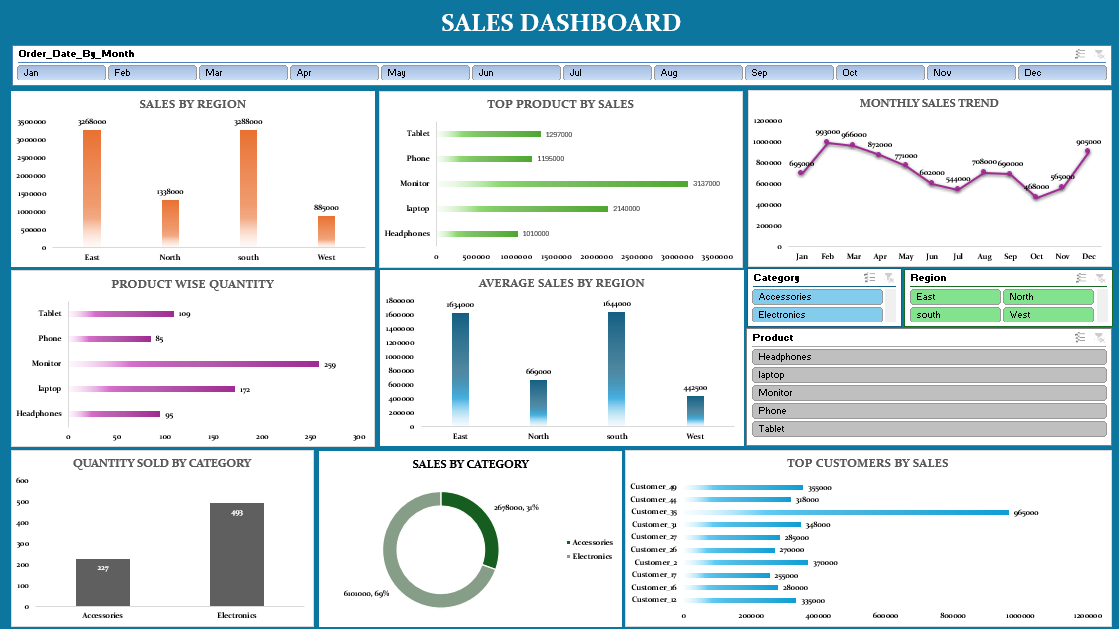

What the dashboard file says about the page in this screenshot:
{"tool":"powerbi","page":{"name":"Page 1","canvas":[1280,720],"ordinal":0},"visuals":[{"type":"columnChart","title":"Sales By Region","fields":{"Y":["Sum(Sheet1.Sales)"],"Category":["Sheet1.Region"]},"box":[845,313,432.9,178.5],"z":0},{"type":"lineChart","title":"Sales By Month","fields":{"Y":["Sum(Sheet1.Sales)"],"Category":["Sheet1.Month"]},"box":[2.4,313,503.8,178.5],"z":1000},{"type":"barChart","title":"Top Customers By Sales","fields":{"Category":["Sheet1.Customer_Name"],"Y":["Sum(Sheet1.Sales)"]},"box":[747.2,100.3,530.7,210.3],"z":2000},{"type":"clusteredColumnChart","title":"Quantity by Product","fields":{"Y":["Sum(Sheet1.Quantity)"],"Category":["Sheet1.Product"]},"box":[2.4,494,473.2,171.2],"z":3000},{"type":"barChart","title":"Orders by Region","fields":{"Category":["Sheet1.Region"],"Y":["Sheet1.Total_Orders"]},"box":[508.7,313,333.8,178.5],"z":4000},{"type":"cardVisual","title":"Orders","fields":{"Data":["Sheet1.Total_Orders"]},"box":[623.6,2.4,216.4,94.2],"z":5000},{"type":"cardVisual","title":"Total Sales","fields":{"Data":["Sheet1.Total_Sales"]},"box":[404.8,2.4,216.4,94.2],"z":6000},{"type":"cardVisual","title":"Average Sales","fields":{"Data":["Sum(Sheet1.Average_Sales)"]},"box":[842.5,2.4,216.4,94.2],"z":7000},{"type":"cardVisual","title":"Quantity","fields":{"Data":["Sheet1.Total_Quantity"]},"box":[1061.4,2.4,216.4,94.2],"z":8000},{"type":"slicer","title":"Region","fields":{"Values":["Sheet1.Region"]},"box":[809.5,582.1,286.1,83.2],"z":9000},{"type":"slicer","title":"Category","fields":{"Values":["Sheet1.Category"]},"box":[809.5,494,286.1,85.6],"z":10000},{"type":"slicer","title":"Product","fields":{"Values":["Sheet1.Product"]},"box":[1098.1,494,179.8,171.2],"z":11000},{"type":"slicer","title":"Month","fields":{"Values":["Sheet1.Month"]},"box":[2.4,667.7,1275.4,50.1],"z":12000},{"type":"clusteredColumnChart","title":"Quantity by Category","fields":{"Y":["Sum(Sheet1.Quantity)"],"Category":["Sheet1.Category"]},"box":[478.1,494,328.9,171.2],"z":13000},{"type":"donutChart","title":"Sales By Category","fields":{"Y":["Sum(Sheet1.Sales)"],"Category":["Sheet1.Category"]},"box":[409.6,100.3,335.1,210.3],"z":14000},{"type":"barChart","title":"Top Product By Sales","fields":{"Y":["Sum(Sheet1.Sales)"],"Category":["Sheet1.Product"]},"box":[2.7,100.2,404.8,209.9],"z":15000},{"type":"textbox","title":"SALES DASHBOARD-PR-01","box":[2.4,2.4,399.9,94.2],"z":16000}]}

Visuals, with their boxes in screenshot pixels (x1, y1, x2, y2), scaled from the page's 1280x720 canvas onto the 1119x629 screenshot:
"Sales By Region" columnChart: <region>739, 273, 1117, 429</region>
"Sales By Month" lineChart: <region>2, 273, 443, 429</region>
"Top Customers By Sales" barChart: <region>653, 88, 1117, 271</region>
"Quantity by Product" clusteredColumnChart: <region>2, 432, 416, 581</region>
"Orders by Region" barChart: <region>445, 273, 737, 429</region>
"Orders" cardVisual: <region>545, 2, 734, 84</region>
"Total Sales" cardVisual: <region>354, 2, 543, 84</region>
"Average Sales" cardVisual: <region>737, 2, 926, 84</region>
"Quantity" cardVisual: <region>928, 2, 1117, 84</region>
"Region" slicer: <region>708, 509, 958, 581</region>
"Category" slicer: <region>708, 432, 958, 506</region>
"Product" slicer: <region>960, 432, 1117, 581</region>
"Month" slicer: <region>2, 583, 1117, 627</region>
"Quantity by Category" clusteredColumnChart: <region>418, 432, 705, 581</region>
"Sales By Category" donutChart: <region>358, 88, 651, 271</region>
"Top Product By Sales" barChart: <region>2, 88, 356, 271</region>
"SALES DASHBOARD-PR-01" textbox: <region>2, 2, 352, 84</region>
